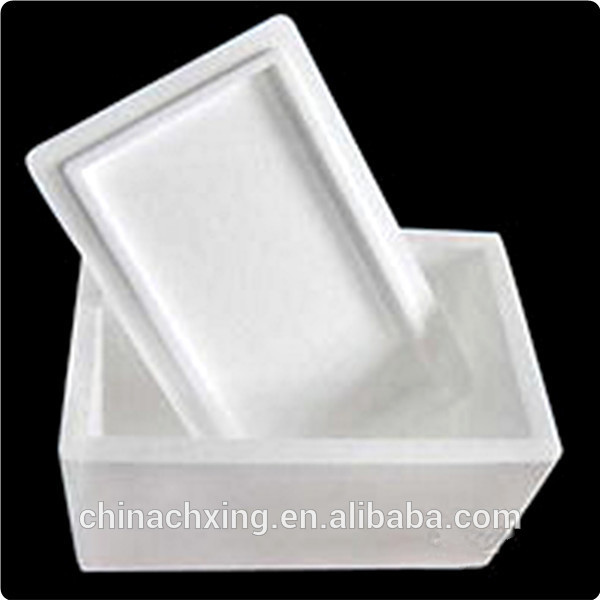Foam Box: (18, 10, 573, 585)
